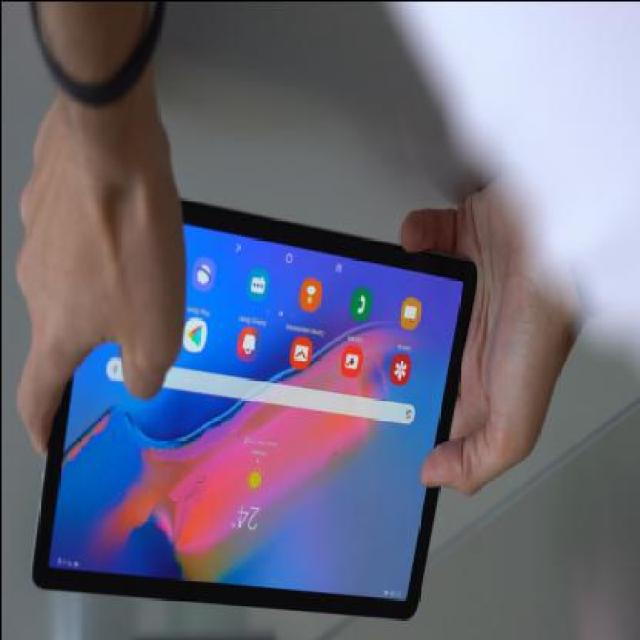tablet: (42, 222, 476, 624)
